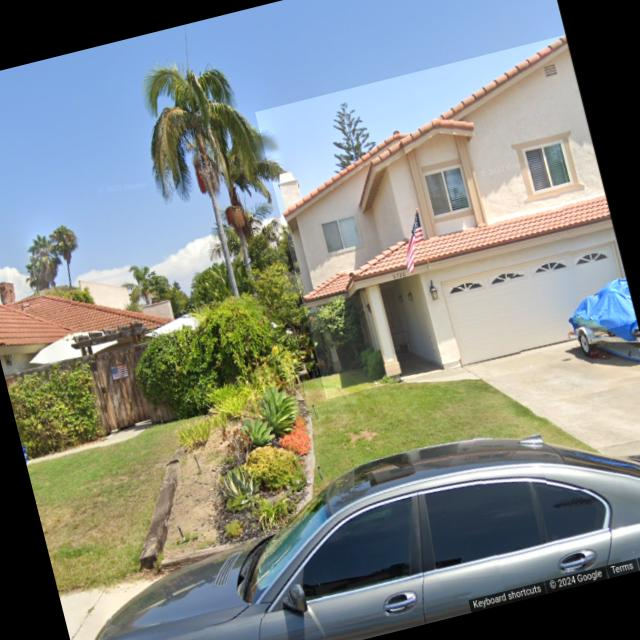House: (255, 35, 636, 399), (0, 244, 176, 374)
